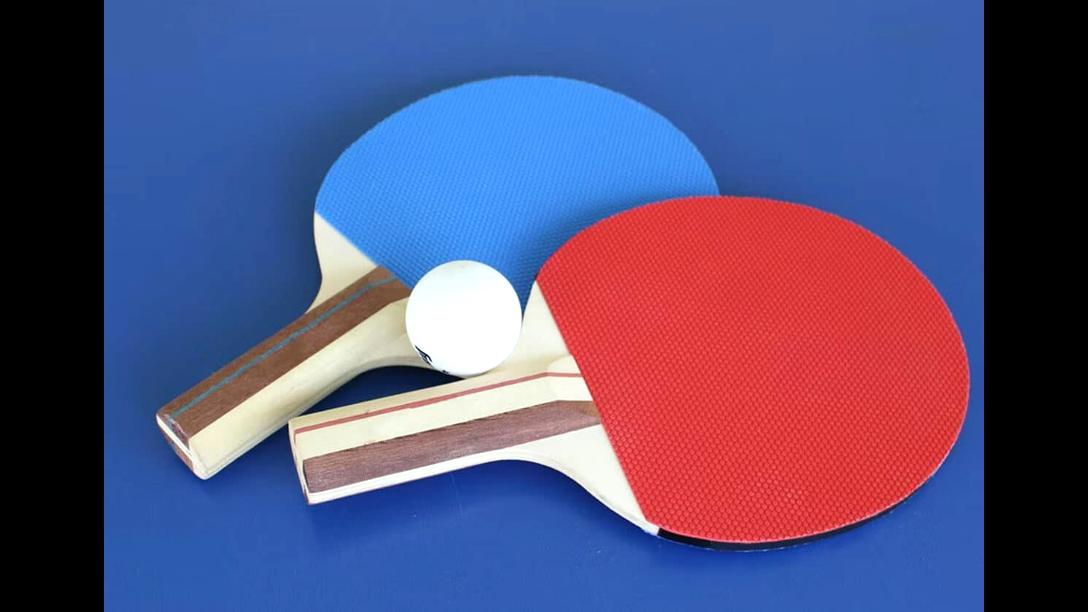Table-Tennis-Ball: (407, 259, 523, 370)
